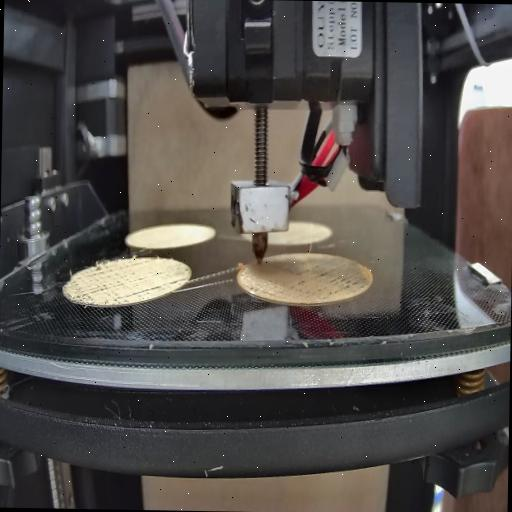under_extrusion: (70, 264, 164, 303), (291, 270, 368, 302), (246, 280, 280, 302), (168, 275, 190, 289)
